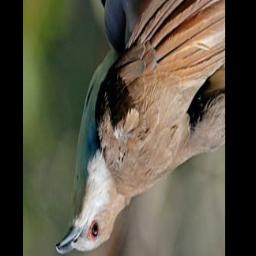Cuckoo: (55, 0, 225, 254)
